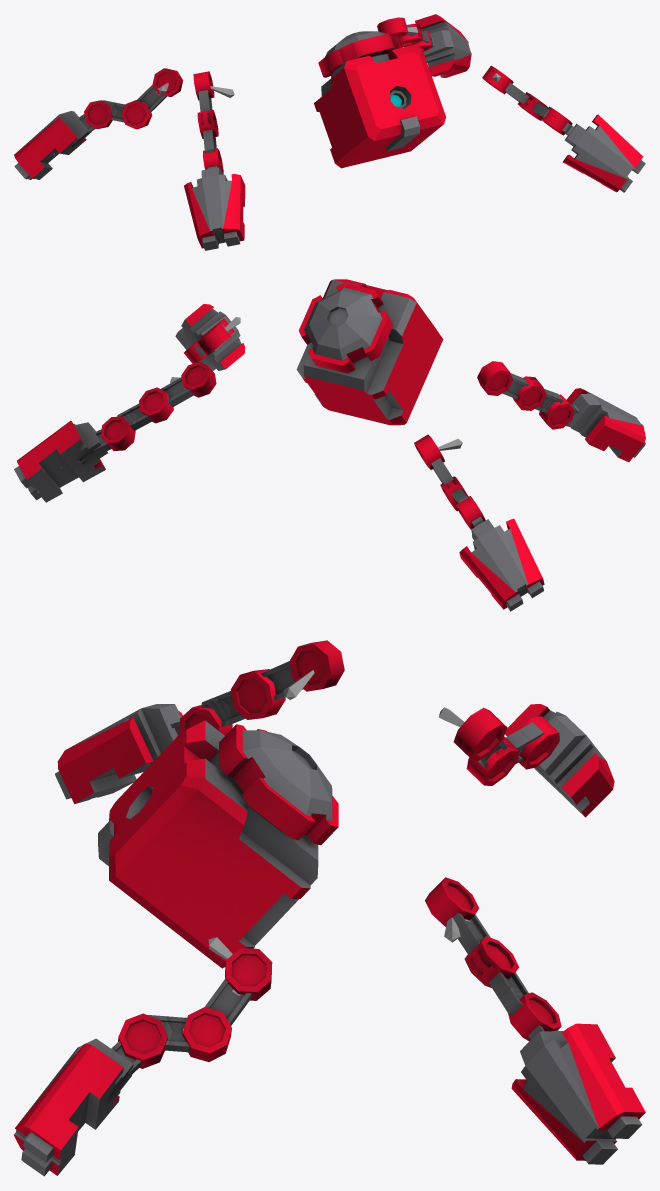
The model's file is Monster1_Die4.obj.
3 views of the same model, one above another, from view 1: azimuth 30°, elevation 25°; view 2: azimuth 150°, elevation 25°; view 3: azimuth 270°, elevation 25° (orthographic). The views are drawn at different scales.
Parts seen in each view (by area): view 1: Box006, Object021, Object017, Object025, Object013, Object026, Object027, Object028, Object023, Object018, Object022, Object020 (+3 smaller); view 2: Box006, Object025, Object013, Object021, Object017, Object014, Object015, Object022, Object016, Object023, Object026, Object024 (+3 smaller); view 3: Box006, Object013, Object017, Object021, Object025, Object018, Object019, Object022, Object023, Object015, Object014, Object020 (+5 smaller).
Part boxes in pixels (x1=…): Box006: x1=314, y1=31, x2=446, y2=168; Object021: x1=184, y1=167, x2=245, y2=250; Object017: x1=562, y1=114, x2=645, y2=192; Object025: x1=14, y1=111, x2=91, y2=179; Object013: x1=415, y1=14, x2=471, y2=77; Object026: x1=137, y1=68, x2=183, y2=112; Object027: x1=102, y1=100, x2=152, y2=129; Object028: x1=78, y1=100, x2=112, y2=132; Object023: x1=197, y1=110, x2=218, y2=153; Object018: x1=482, y1=65, x2=529, y2=104; Object022: x1=193, y1=71, x2=214, y2=111; Object020: x1=540, y1=106, x2=574, y2=135; Box006: x1=296, y1=279, x2=443, y2=425; Object025: x1=459, y1=518, x2=544, y2=611; Object013: x1=14, y1=420, x2=107, y2=502; Object021: x1=566, y1=388, x2=645, y2=462; Object017: x1=175, y1=304, x2=245, y2=370; Object014: x1=161, y1=361, x2=216, y2=407; Object015: x1=117, y1=387, x2=173, y2=430; Object022: x1=477, y1=361, x2=529, y2=399; Object016: x1=93, y1=416, x2=135, y2=454; Object023: x1=513, y1=376, x2=562, y2=413; Object026: x1=414, y1=434, x2=453, y2=484; Object024: x1=539, y1=394, x2=579, y2=429; Box006: x1=98, y1=720, x2=338, y2=968; Object013: x1=511, y1=1023, x2=645, y2=1164; Object017: x1=14, y1=1038, x2=133, y2=1176; Object021: x1=55, y1=704, x2=182, y2=804; Object025: x1=505, y1=704, x2=614, y2=817; Object018: x1=205, y1=948, x2=272, y2=1025; Object019: x1=148, y1=1007, x2=231, y2=1061; Object022: x1=260, y1=640, x2=344, y2=700; Object023: x1=201, y1=669, x2=285, y2=726; Object015: x1=464, y1=936, x2=528, y2=1015; Object014: x1=425, y1=877, x2=490, y2=954; Object020: x1=111, y1=1013, x2=168, y2=1078.
Size of the model in its own units: 324 by 106 by 216.
